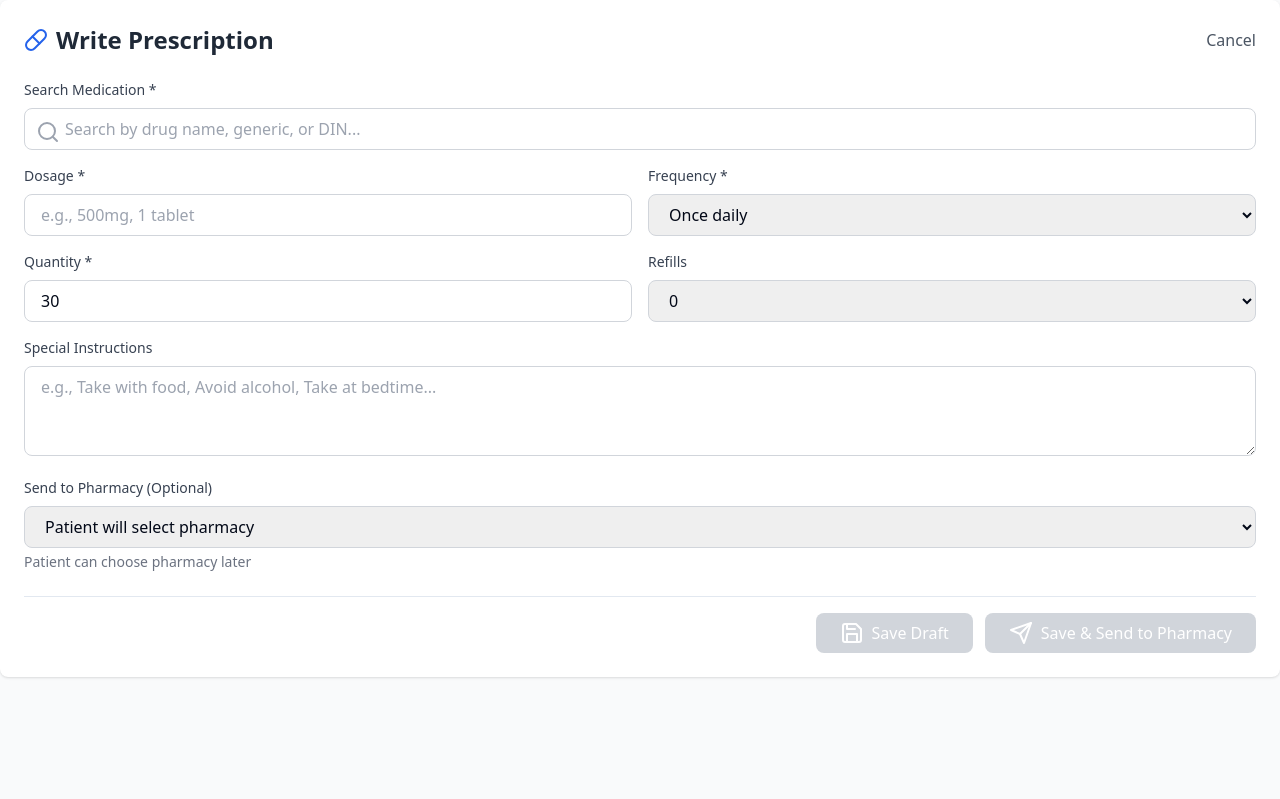
Test: PrescriptionWriter › shows allergy alerts when present
The width and height of the screenshot is (1280, 799).
Type "amo" into the field with placeholder "Search by drug name, generic, or DIN..." at (640, 129), box [24,108,1256,150]
Wait 400 ms
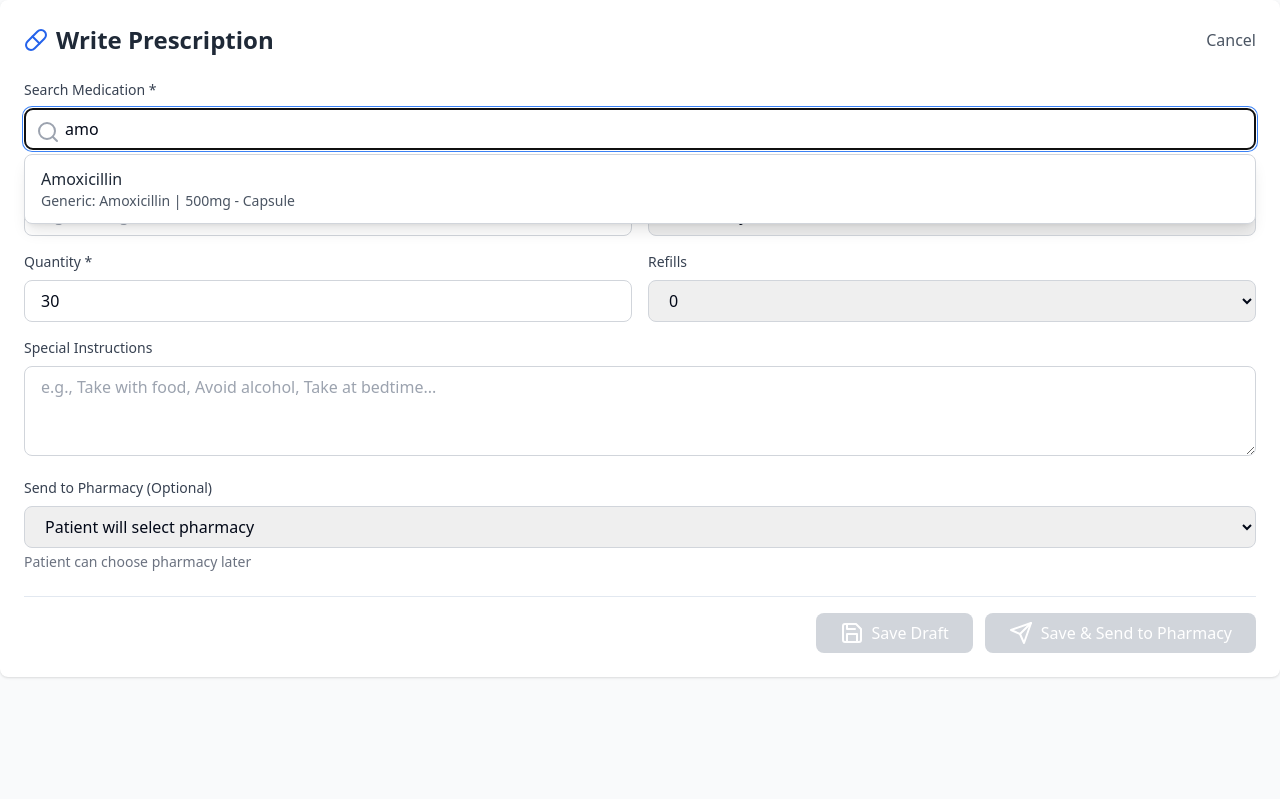
Now the text "Amoxicillin" is shown
Click the text "Amoxicillin" at (82, 179), box [41,168,122,190]
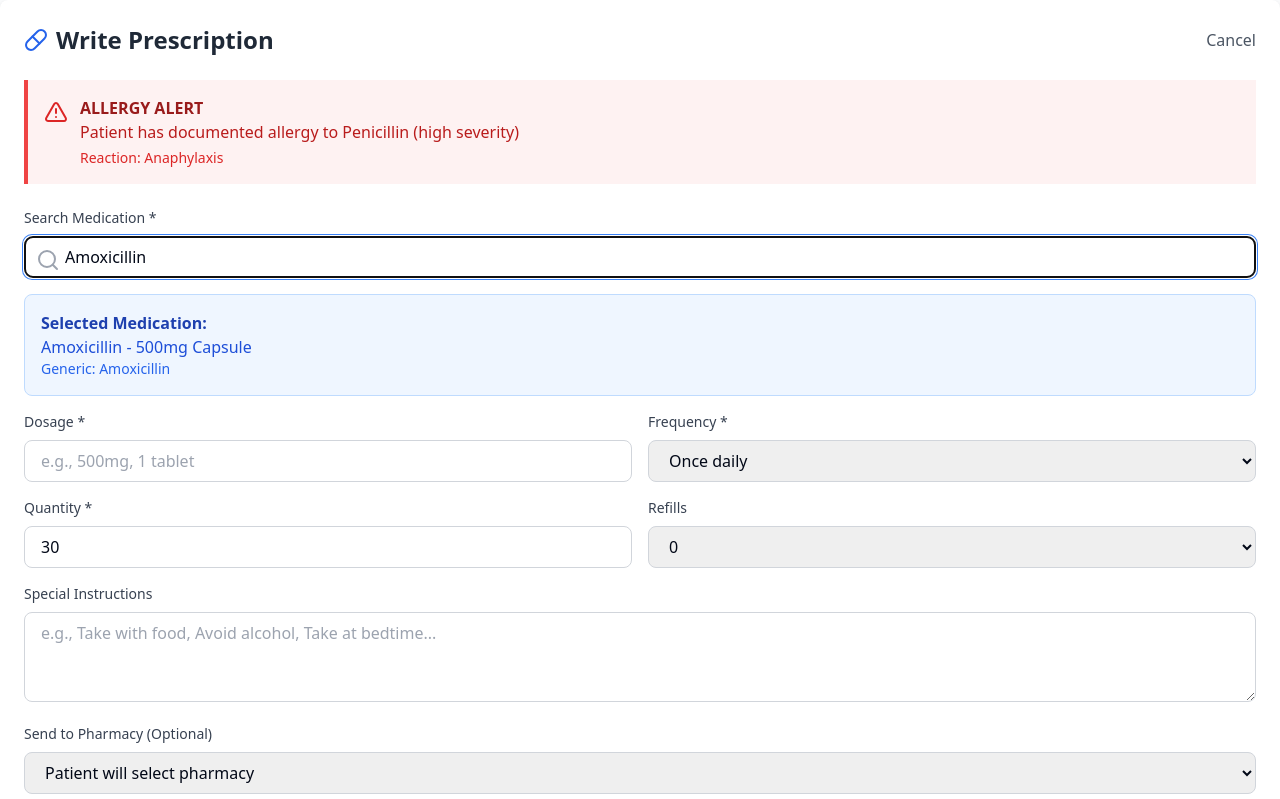
Now the text "ALLERGY ALERT" is shown, box [80,97,203,119]
Now the text "Patient has documented allergy to Penicillin (high severity)" is shown, box [80,120,519,144]
